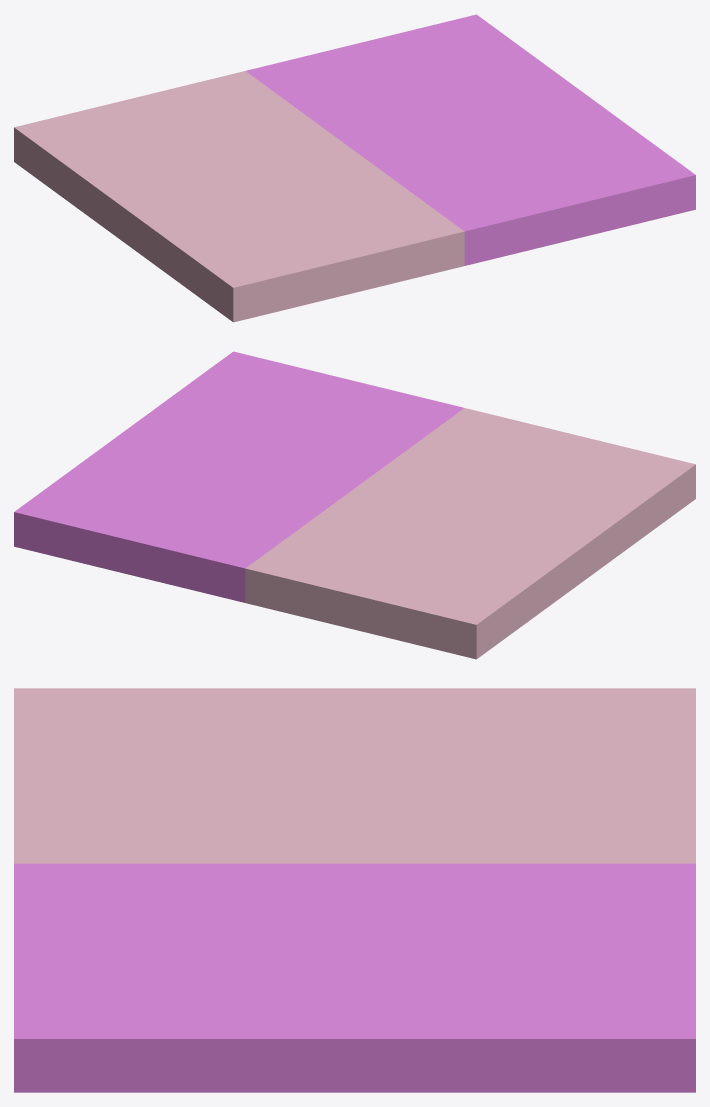
Rendered from Platform.fbx.
3 views of the same model, one above another, from view 1: azimuth 30°, elevation 25°; view 2: azimuth 150°, elevation 25°; view 3: azimuth 270°, elevation 25° (orthographic). The views are drawn at different scales.
Parts seen in each view (by area): view 1: Platform; view 2: Platform; view 3: Platform.
Part boxes in pixels (x1,y1,x2,y2): Platform: [14, 14, 695, 322]; Platform: [14, 351, 695, 659]; Platform: [14, 688, 695, 1092].
Bounding box in the file's own units: 1400 × 100 × 1150.
